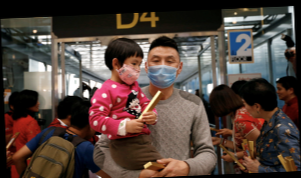with_mask: (147, 51, 180, 87), (118, 58, 142, 85)
without_mask: (276, 84, 290, 100), (29, 96, 41, 112)
